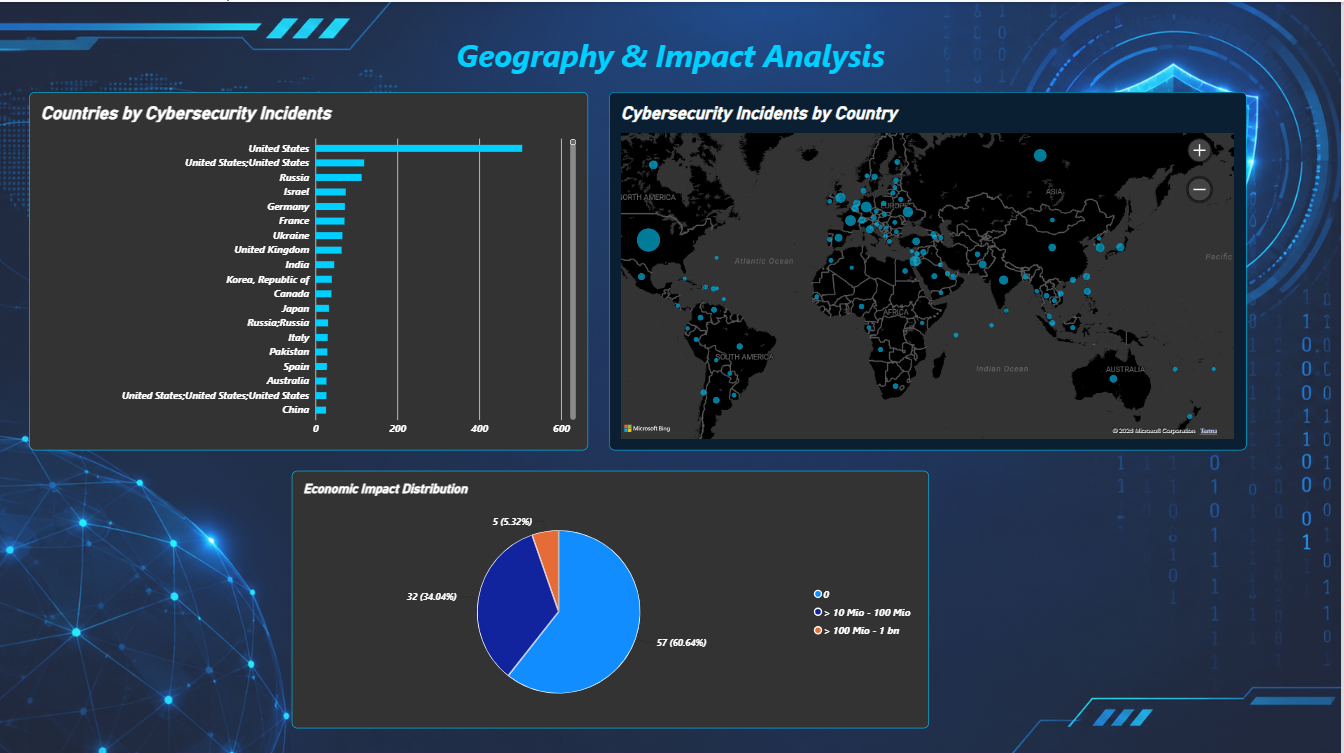

The page's visual inventory and layout, read from the dashboard file:
{"tool":"powerbi","page":{"name":"Geography & Impact Analysis","canvas":[1920,1080],"ordinal":2},"visuals":[{"type":"shape","box":[528,0,864.5,150.3],"z":1},{"type":"map","title":"Cybersecurity Incidents by Country","fields":{"Category":["cybersecurity_incident_db eurepoc_incidents_clean.receiver_country_clean"],"Size":["CountNonNull(cybersecurity_incident_db eurepoc_incidents_clean.incident_id)"]},"box":[874,128,910,512],"z":2},{"type":"pieChart","title":"Economic Impact Distribution","fields":{"Category":["cybersecurity_incident_db eurepoc_incidents_clean.economic_impact"],"Y":["CountNonNull(cybersecurity_incident_db eurepoc_incidents_clean.incident_id)"]},"box":[420,670,910,368],"z":3},{"type":"barChart","title":"Countries by Cybersecurity Incidents","fields":{"Category":["cybersecurity_incident_db eurepoc_incidents_clean.receiver_country_clean"],"Y":["CountNonNull(cybersecurity_incident_db eurepoc_incidents_clean.incident_id)"]},"box":[44,128,798,512],"z":4}]}

Visuals, with their boxes in screenshot pixels (x1, y1, x2, y2), scaled from the page's 1920x1080 canvas onto the 1344x753 screenshot:
shape: select_region(370, 0, 975, 105)
"Cybersecurity Incidents by Country" map: select_region(612, 89, 1249, 446)
"Economic Impact Distribution" pieChart: select_region(294, 467, 931, 724)
"Countries by Cybersecurity Incidents" barChart: select_region(31, 89, 589, 446)
